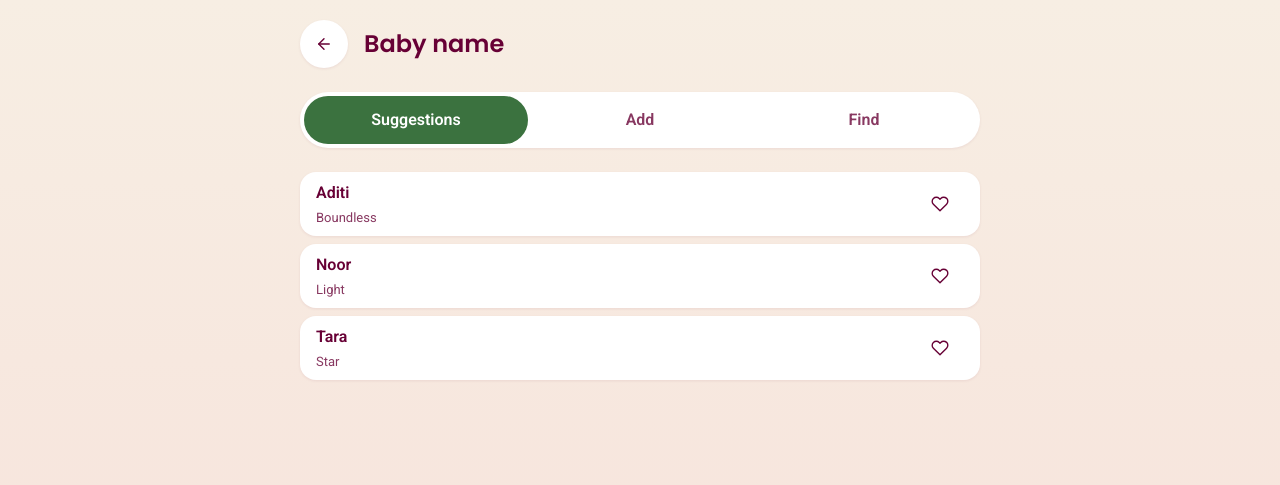
Test case: BabyNameScreen › filters by typed name or meaning and explains an empty search
Click the tab "Find": (864, 120) [752,96,976,144]
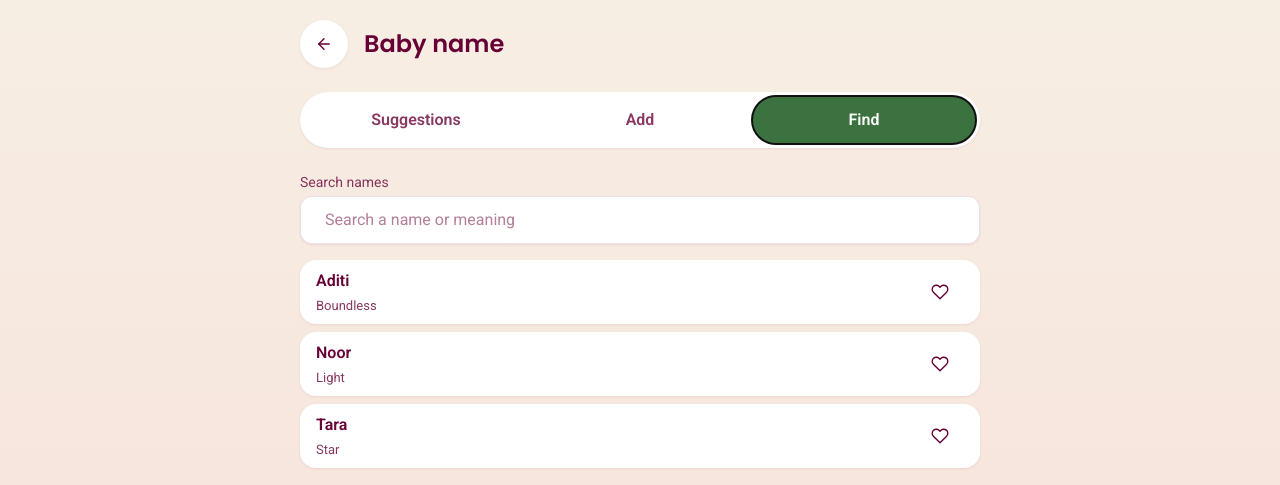
In the search field labelled "Search names": (640, 220) [300,196,980,244], type "lig"
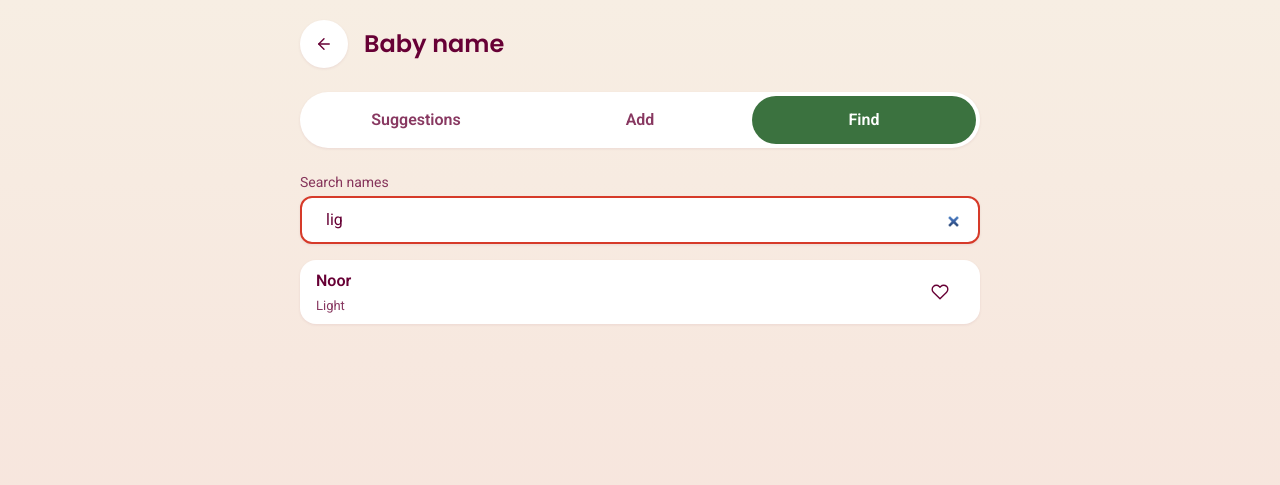
Expected: the text "Noor" is shown, [316,269,351,293]
Expected: the button "Aditi" is gone
Replace the text in the search field labelled "Search names" with "zzzz": (640, 220) [300,196,980,244]
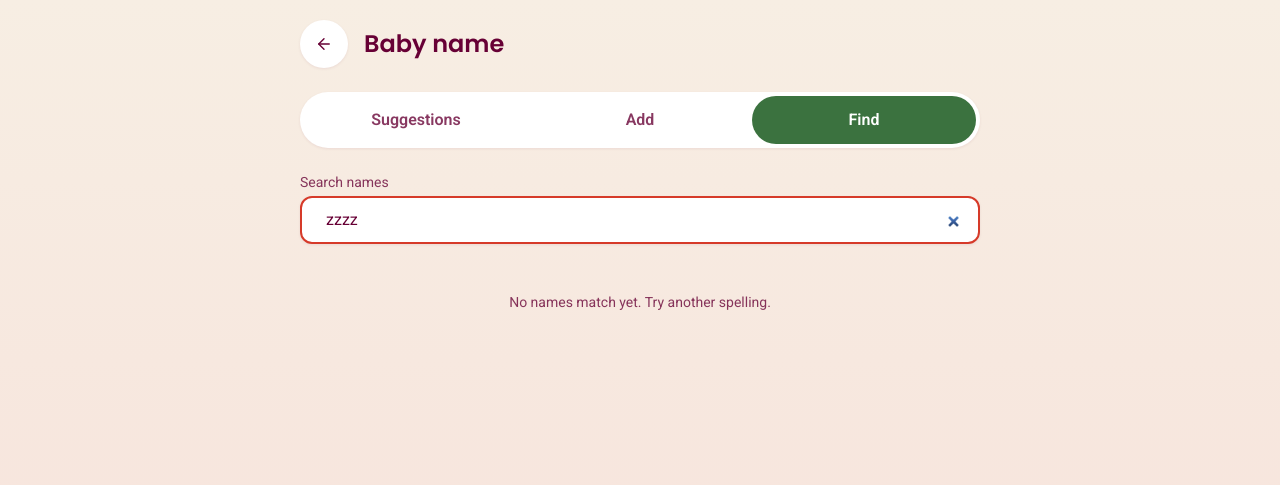
Expected: the text "No names match yet. Try another spelling." is shown, [509,294,771,310]
